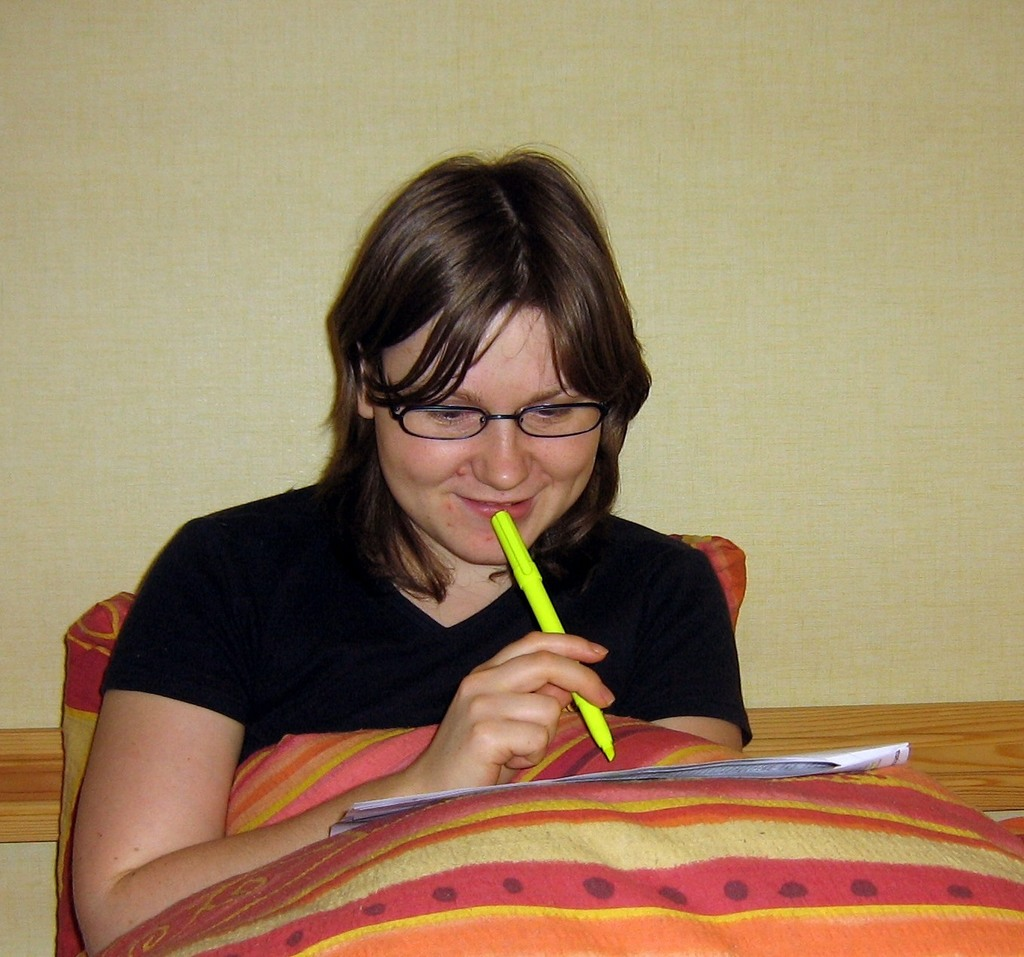Human_hand: (415, 625, 618, 793)
